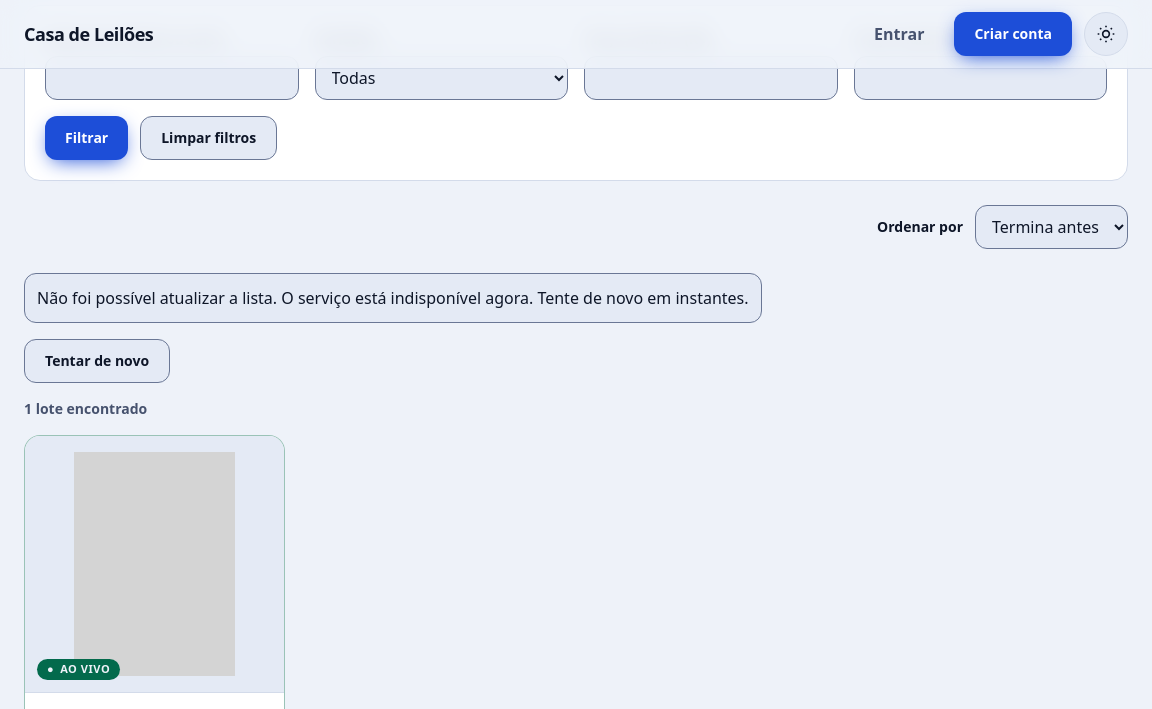
Test case: / (vitrine) › falha do refetch com a lista em tela mantém os cards e mostra o aviso com "Tentar de novo"
The image size is (1152, 709).
(page scrolled)
Expected: the message shows "Não foi possível atualizar a lista. O serviço está indisponível agora. Tente de novo em instantes.", x1=24 y1=272 x2=762 y2=322
Click the button "Tentar de novo".
click(97, 360)  # box x1=24 y1=338 x2=170 y2=382
(page scrolled)
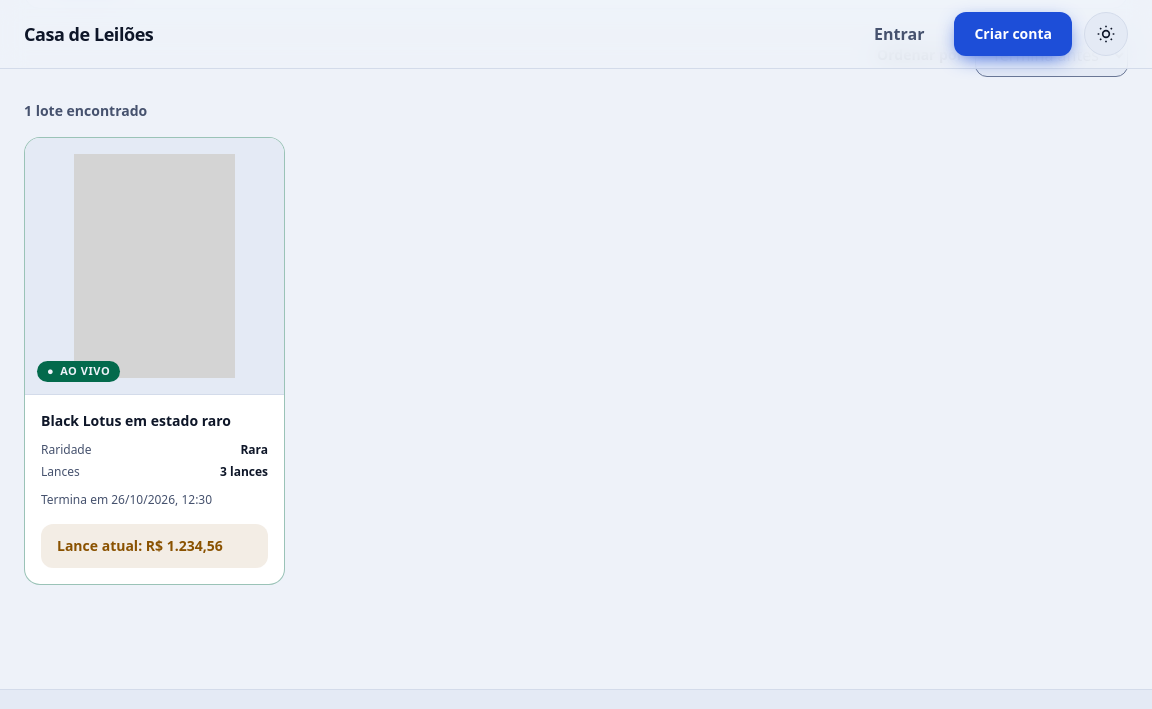
Expected: the list item is shown, x1=24 y1=136 x2=285 y2=585
Expected: the message "Não foi possível atualizar a lista. O serviço está indisponível agora. Tente de" is gone
